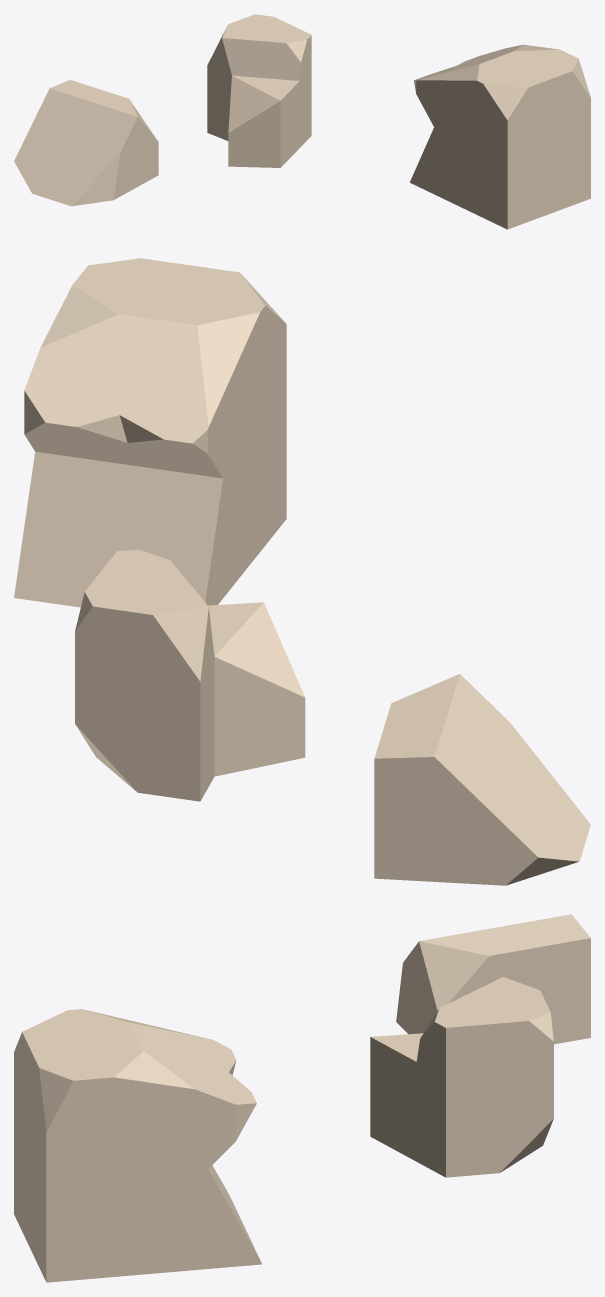
File: Prop_Rubble_1.glb
3 renders of one model, top to bottom at view 1: azimuth 30°, elevation 25°; view 2: azimuth 150°, elevation 25°; view 3: azimuth 270°, elevation 25°, orthographic. The views are drawn at different scales.
Visible parts, largest first — view 1: Prop_Rubble_1; view 2: Prop_Rubble_1; view 3: Prop_Rubble_1.
Boxes of the visible parts, x1,y1,x2,y2 form: Prop_Rubble_1: [14, 14, 590, 229]; Prop_Rubble_1: [14, 258, 590, 885]; Prop_Rubble_1: [14, 914, 590, 1282].
Bounding box in the file's own units: 0.6453 × 0.2 × 0.524.
